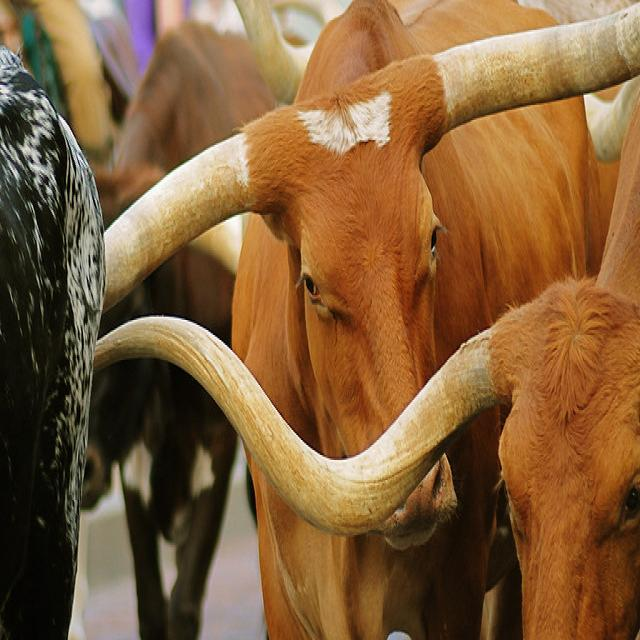cow: (99, 0, 639, 630), (88, 74, 639, 629), (0, 42, 104, 630), (93, 20, 285, 223)
